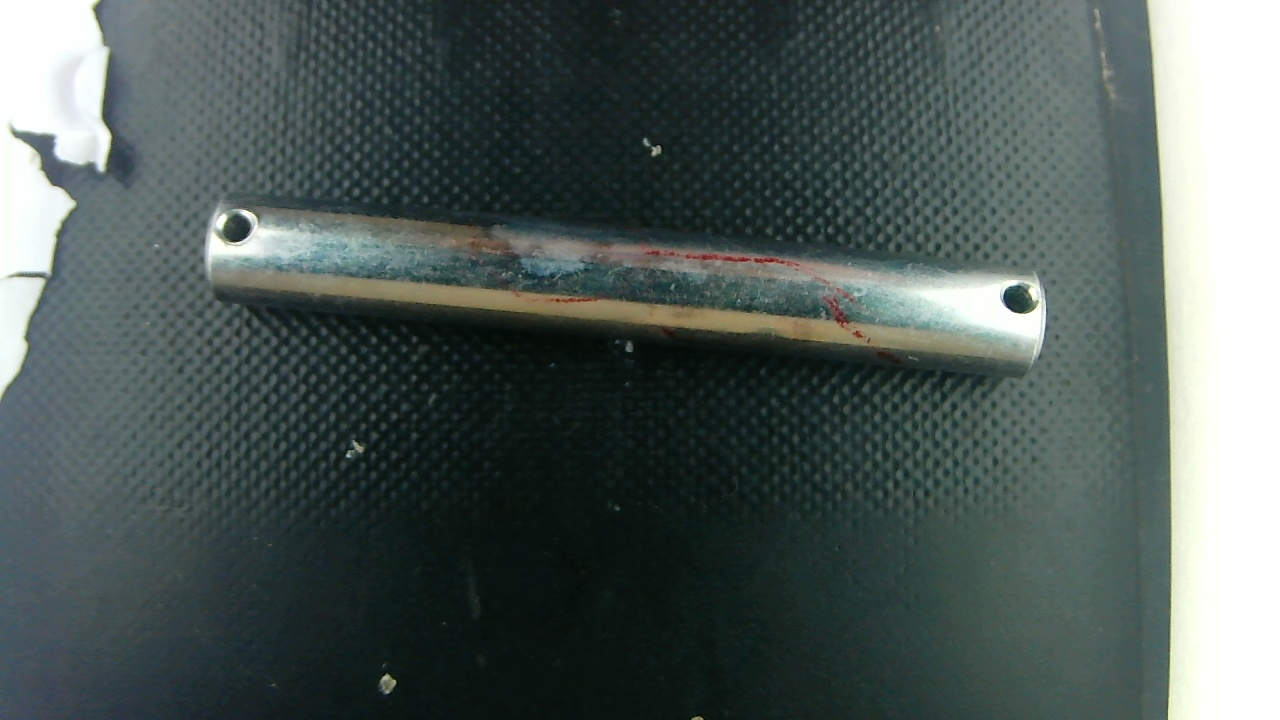black patch_pin: (484, 206, 851, 339)
